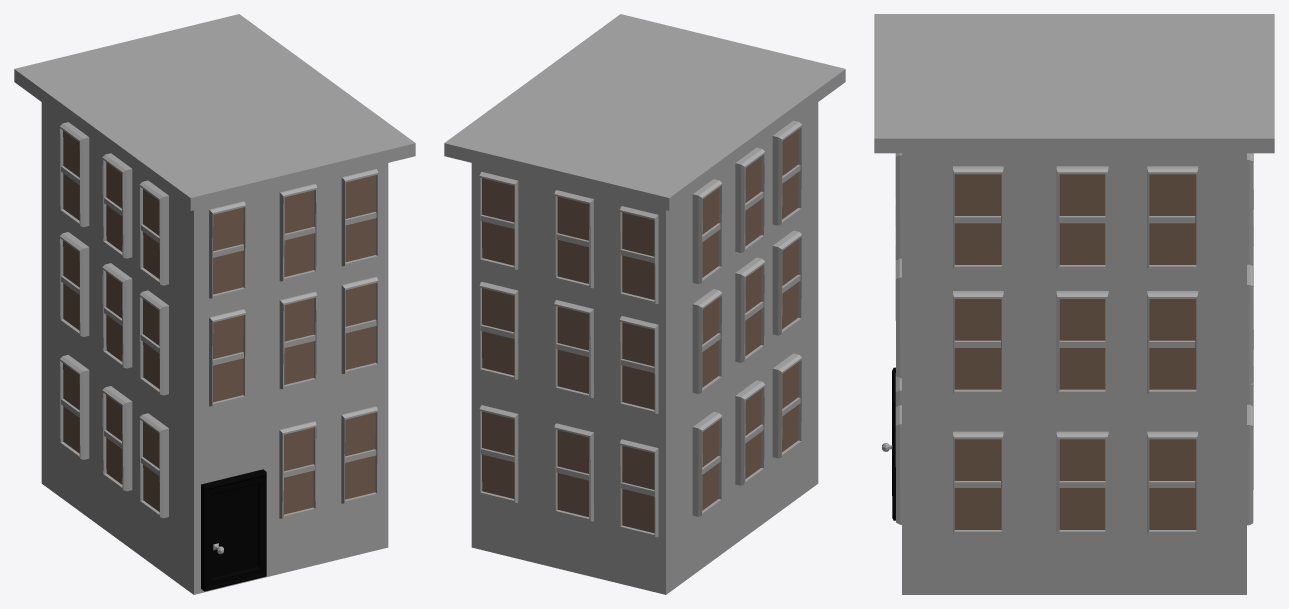
Rendered from GhettoApartment3.fbx.
3 renders of one model, left to right at view 1: azimuth 30°, elevation 25°; view 2: azimuth 150°, elevation 25°; view 3: azimuth 270°, elevation 25°, orthographic. The views are drawn at different scales.
Parts seen in each view (by area): view 1: pCube144, polySurface323, polySurface338, polySurface334, polySurface340, polySurface333, pSphere13, polySurface337; view 2: pCube144, polySurface332, polySurface331, polySurface339, polySurface333, polySurface340, polySurface334; view 3: pCube144, polySurface326, polySurface341, polySurface325, polySurface332, polySurface337, polySurface331, polySurface323, polySurface339, pSphere13, polySurface338.
Part boxes in pixels (x1=…): pCube144: x1=14, y1=14, x2=415, y2=594; polySurface323: x1=209, y1=276, x2=378, y2=406; polySurface338: x1=209, y1=169, x2=378, y2=298; polySurface334: x1=59, y1=232, x2=168, y2=395; polySurface340: x1=59, y1=122, x2=168, y2=285; polySurface333: x1=59, y1=354, x2=168, y2=518; pSphere13: x1=201, y1=469, x2=266, y2=591; polySurface337: x1=279, y1=406, x2=377, y2=518; pCube144: x1=444, y1=14, x2=845, y2=594; polySurface332: x1=479, y1=405, x2=658, y2=537; polySurface331: x1=479, y1=282, x2=658, y2=413; polySurface339: x1=479, y1=172, x2=658, y2=303; polySurface333: x1=692, y1=353, x2=802, y2=516; polySurface340: x1=692, y1=120, x2=802, y2=284; polySurface334: x1=692, y1=230, x2=802, y2=393; pCube144: x1=874, y1=14, x2=1274, y2=594; polySurface326: x1=953, y1=291, x2=1198, y2=393; polySurface341: x1=953, y1=166, x2=1198, y2=268; polySurface325: x1=953, y1=431, x2=1198, y2=533; polySurface332: x1=1247, y1=329, x2=1253, y2=525; polySurface337: x1=895, y1=373, x2=901, y2=524; polySurface331: x1=1247, y1=189, x2=1253, y2=385; polySurface323: x1=895, y1=198, x2=901, y2=378; polySurface339: x1=1247, y1=153, x2=1253, y2=260; pSphere13: x1=882, y1=367, x2=895, y2=520; polySurface338: x1=895, y1=153, x2=901, y2=255.
Bounding box in the file's own units: 22.42 × 38.97 × 30.43.
